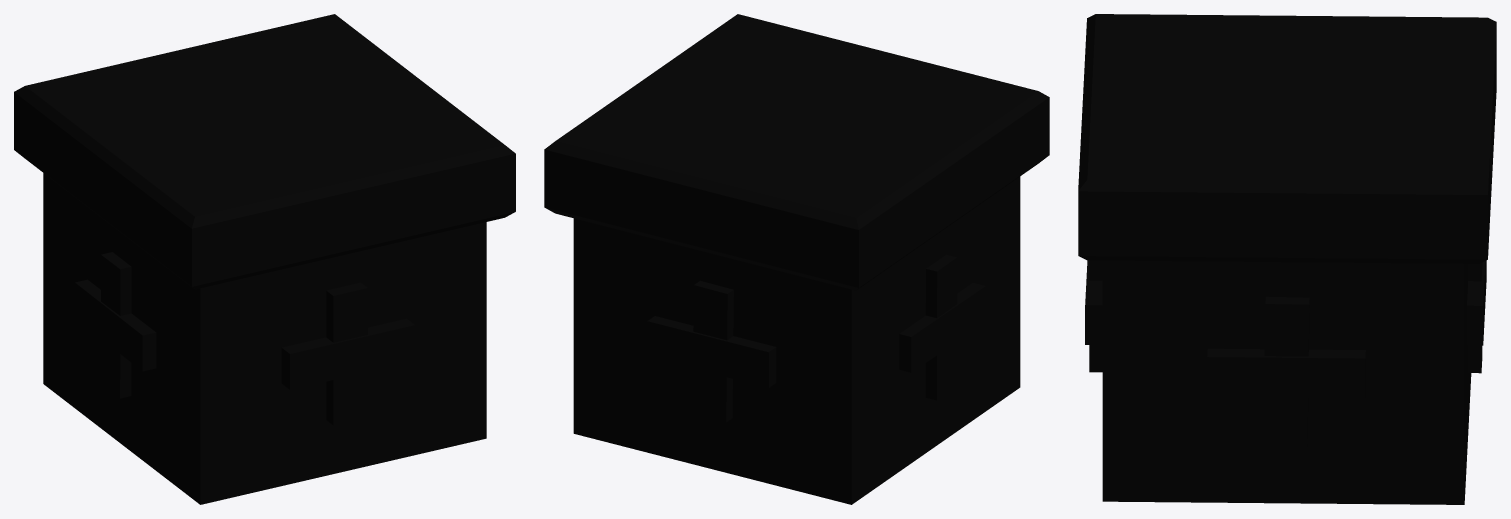
File: Caixa2.fbx
The picture shows the model from 3 angles, left to right: view 1: azimuth 30°, elevation 25°; view 2: azimuth 150°, elevation 25°; view 3: azimuth 270°, elevation 25°; orthographic projection. The views are drawn at different scales.
Visible parts, largest first — view 1: Caixinha; view 2: Caixinha; view 3: Caixinha.
Part boxes in pixels (box(x1,y1,x2,y2)): Caixinha: box(14, 14, 515, 504); Caixinha: box(544, 14, 1049, 504); Caixinha: box(1078, 14, 1496, 504).
Bounding box in the file's own units: 8.84 × 7.65 × 8.84.
1 material, 1 textured.
